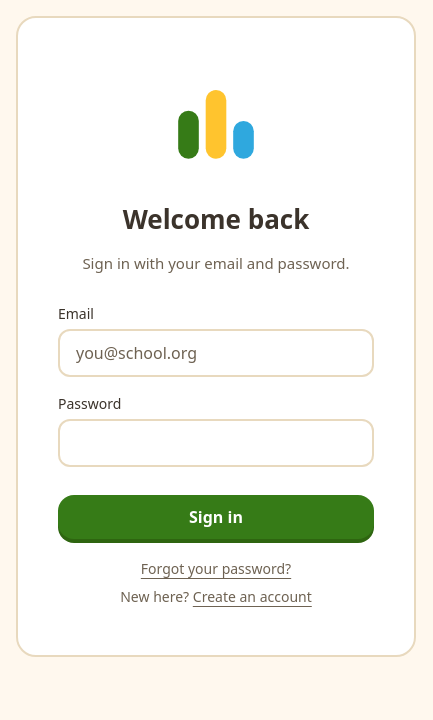
EmailSignInPage › shows a friendly message for bad credentials
Expected: the button "Sign in" is shown, [58,495,374,539]
Type "t@e.com" into the field labelled "Email".
click(216, 353); type("t@e.com")  # box [58,329,374,377]
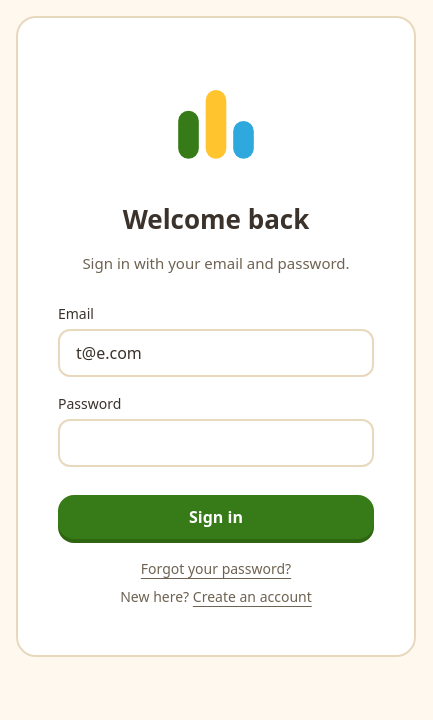
Type "wrong" into the password field labelled "Password".
click(216, 443); type("wrong")  # box [58,419,374,467]
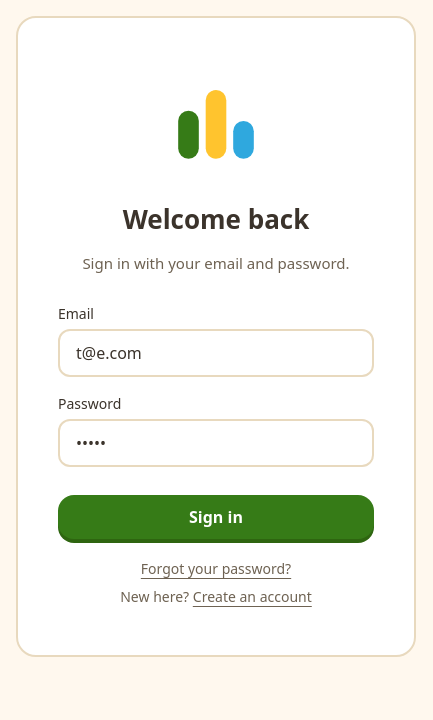
Click the button "Sign in".
click(216, 517)  # box [58,495,374,539]
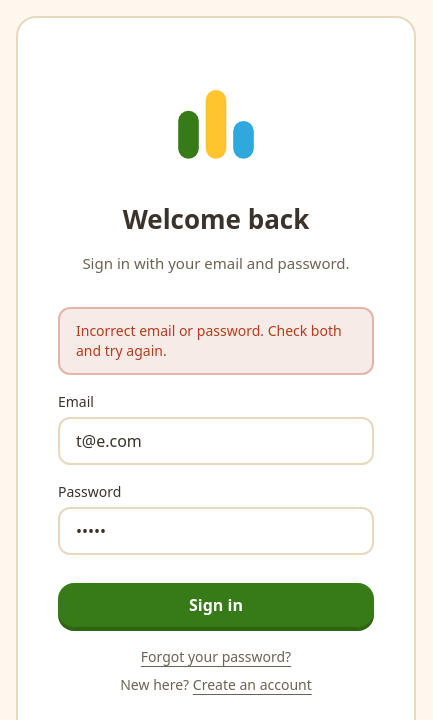
Result: the message shows "Incorrect email or password." at [76,321,342,360]
